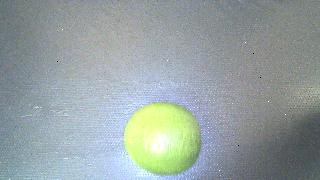EXPORTACION: (124, 103, 201, 175)
